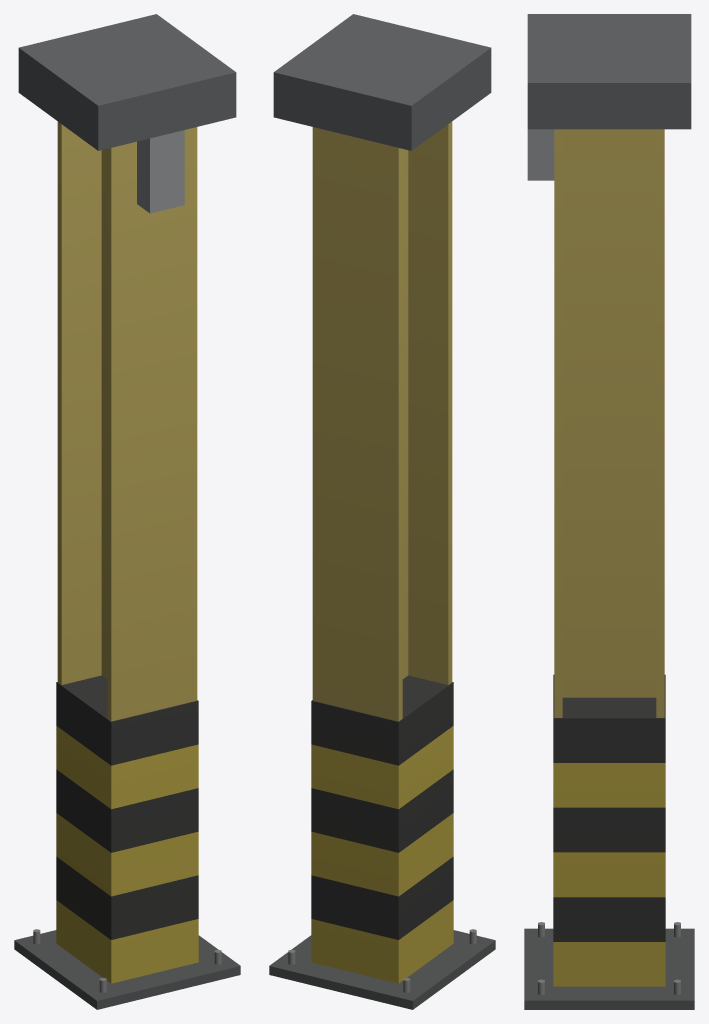
Rendered from qPost_steel.glb.
3 views of the same model, side by side, from view 1: azimuth 30°, elevation 25°; view 2: azimuth 150°, elevation 25°; view 3: azimuth 270°, elevation 25° (orthographic). The views are drawn at different scales.
Parts seen in each view (by area): view 1: qPost_steel; view 2: qPost_steel; view 3: qPost_steel.
Boxes of the visible parts, x1,y1,x2,y2 form: qPost_steel: (14,14,240,1009); qPost_steel: (269,14,495,1009); qPost_steel: (524,14,694,1009).
Bounding box in the file's own units: 0.5 × 3 × 0.5.
